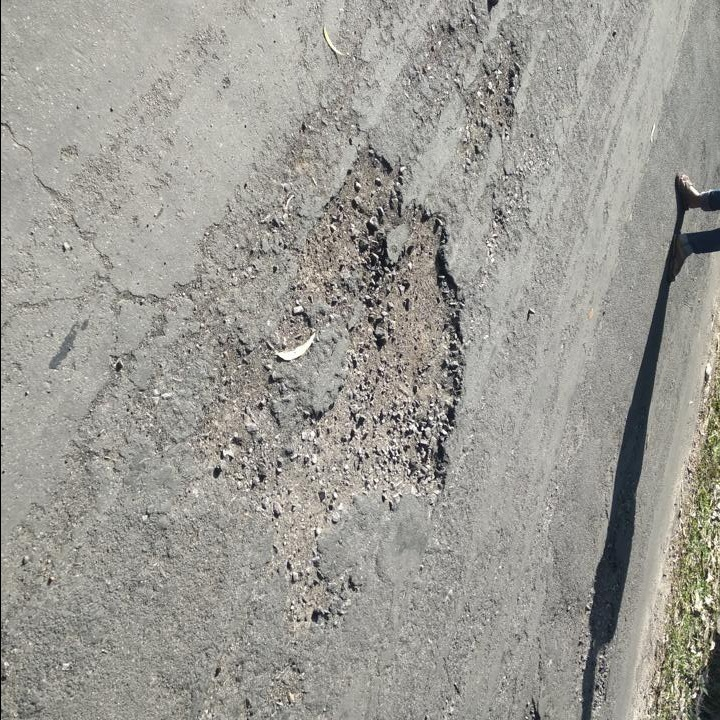pothole: (196, 142, 475, 635), (462, 34, 525, 142)
